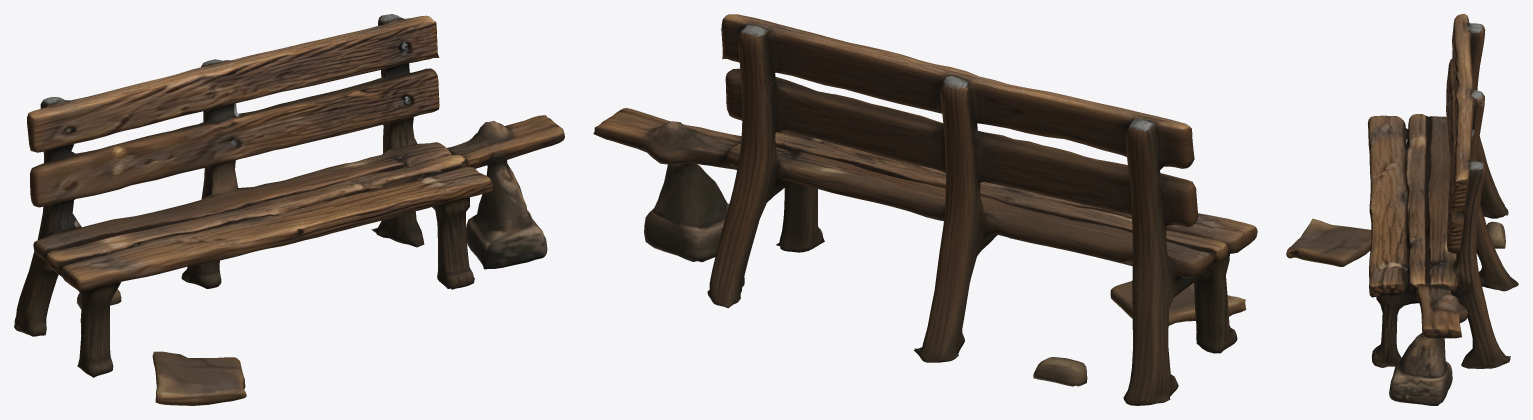
Rendered from SM_Utileria_BancoMadera_01.fbx.
3 views of the same model, side by side, from view 1: azimuth 30°, elevation 25°; view 2: azimuth 150°, elevation 25°; view 3: azimuth 270°, elevation 25° (orthographic). The views are drawn at different scales.
Visible parts, largest first — view 1: SM_Utileria_BancoMadera_01; view 2: SM_Utileria_BancoMadera_01; view 3: SM_Utileria_BancoMadera_01.
Part boxes in pixels (<box>): SM_Utileria_BancoMadera_01: <box>14,14,564,405</box>; SM_Utileria_BancoMadera_01: <box>593,14,1257,405</box>; SM_Utileria_BancoMadera_01: <box>1286,14,1518,405</box>.
Bounding box in the file's own units: 0.9967 × 0.4407 × 0.4549.
Materials: 1 (1 with a texture image).
